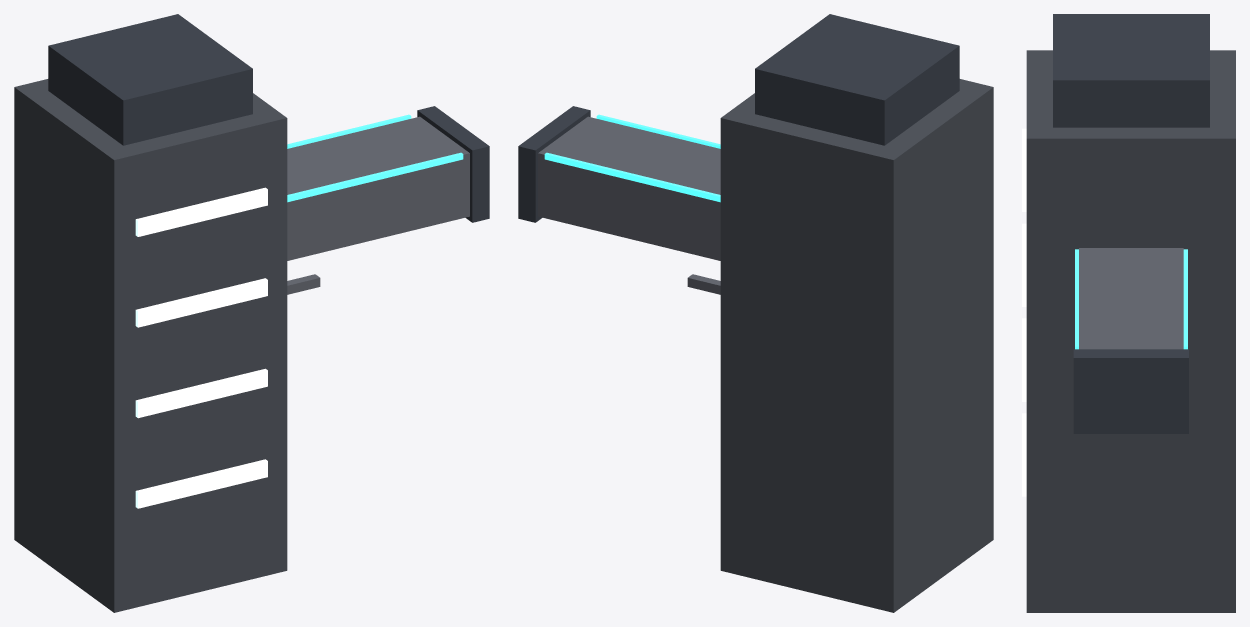
The model's file is skybridge_stub.glb.
3 renders of one model, left to right at view 1: azimuth 30°, elevation 25°; view 2: azimuth 150°, elevation 25°; view 3: azimuth 270°, elevation 25°, orthographic. The views are drawn at different scales.
Visible parts, largest first — view 1: skybridge_stub; view 2: skybridge_stub; view 3: skybridge_stub.
Part boxes in pixels (<box>): skybridge_stub: <box>14,14,489,612</box>; skybridge_stub: <box>518,14,993,612</box>; skybridge_stub: <box>1022,14,1235,612</box>.
Size of the model in its own units: 4.6 by 5.5 by 2.05.
